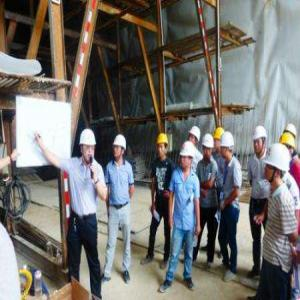white: (264, 144, 291, 186), (79, 128, 97, 165), (252, 125, 268, 159), (220, 132, 235, 163), (112, 133, 128, 162), (180, 141, 195, 171), (202, 134, 214, 160), (189, 126, 202, 147)
yellow: (156, 133, 169, 160), (213, 128, 223, 153)
